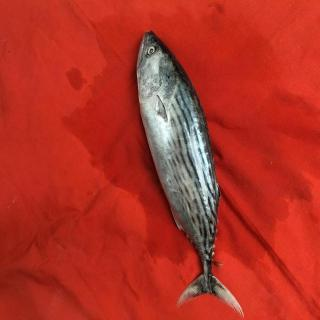Ikan: (128, 23, 250, 320)
